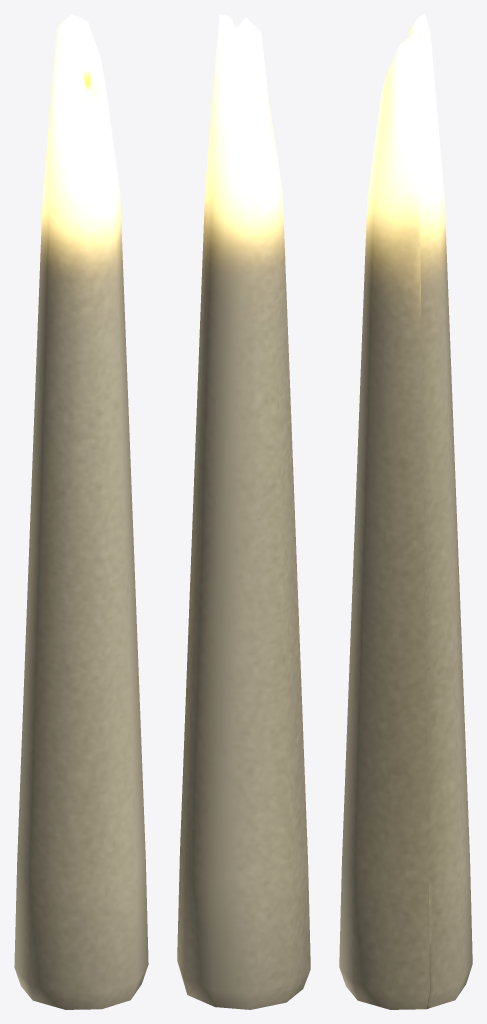
The model's file is taper candle.FBX.
3 views of the same model, side by side, from view 1: azimuth 90°, elevation 25°; view 2: azimuth 150°, elevation 25°; view 3: azimuth 270°, elevation 25° (orthographic).
Visible parts, largest first — view 1: thin candle; view 2: thin candle; view 3: thin candle.
Boxes of the visible parts, box(x1,y1,x2,y2) form: thin candle: box(14, 14, 148, 1009); thin candle: box(177, 14, 310, 1009); thin candle: box(339, 14, 472, 1009).
Size of the model in its own units: 1.94 by 15.97 by 2.
1 material, 1 textured.
